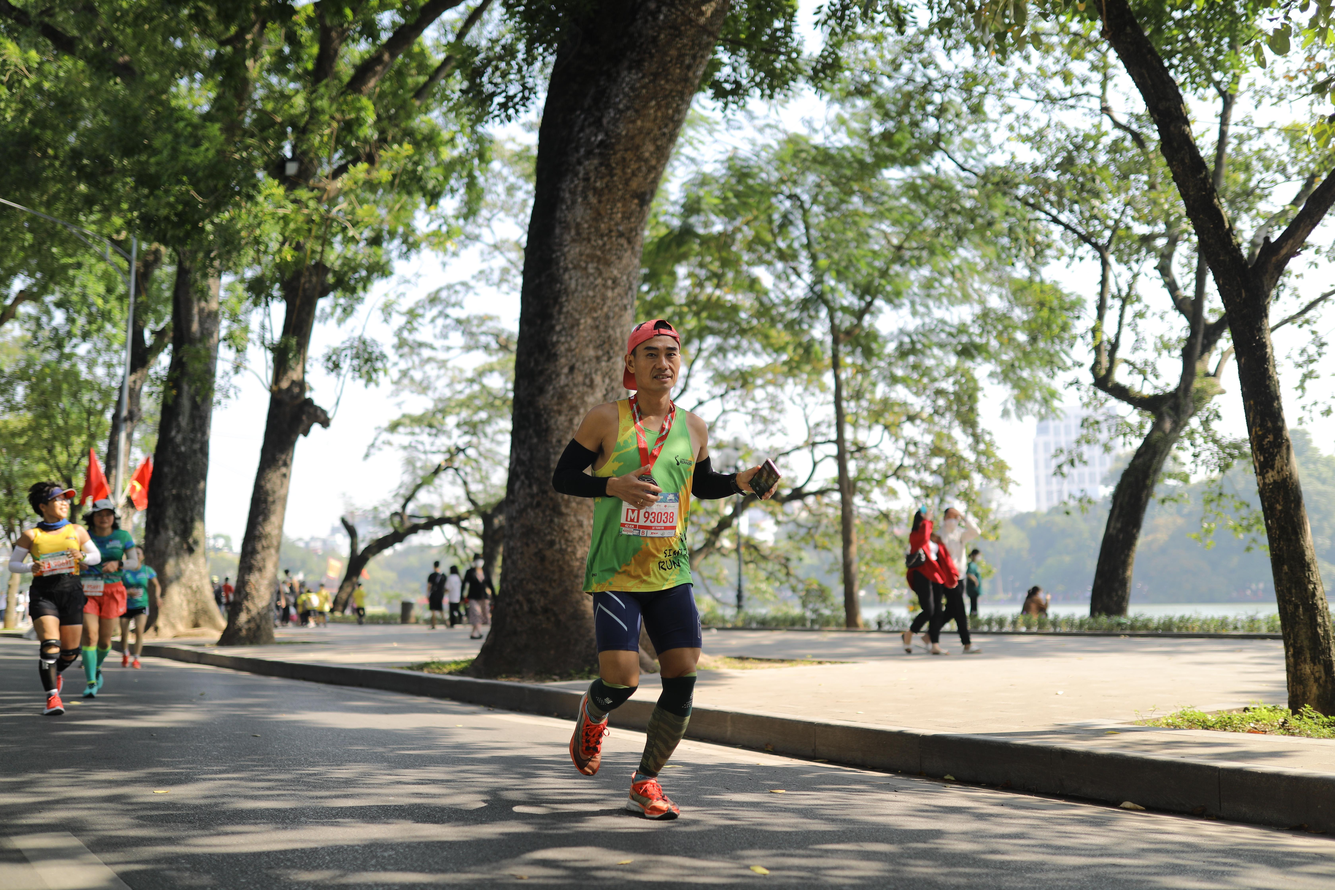bib: (622, 493, 679, 537), (41, 554, 75, 577), (81, 578, 103, 597)
